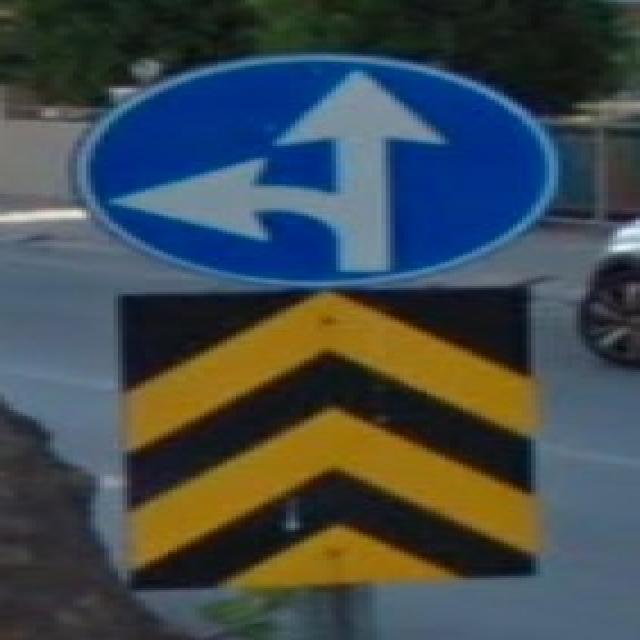Straight or Left: (71, 56, 557, 286)
